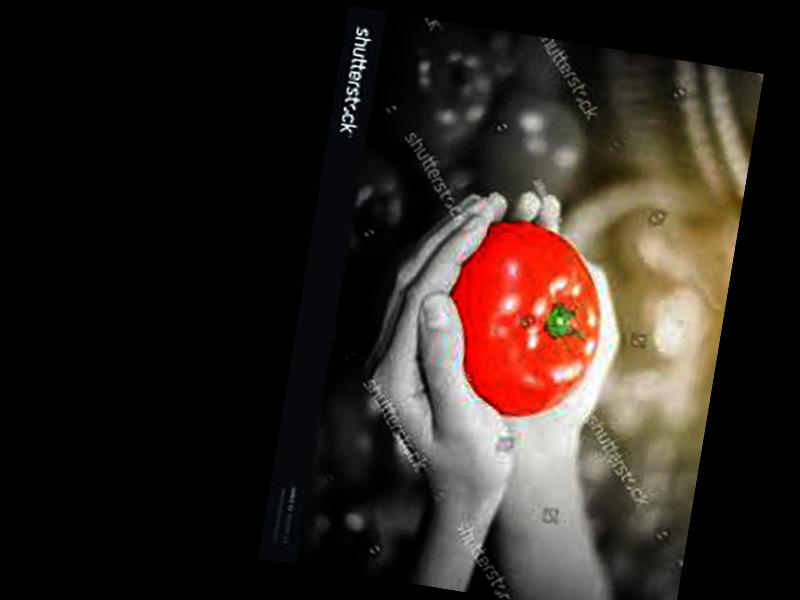Tomato: (434, 213, 614, 427)
